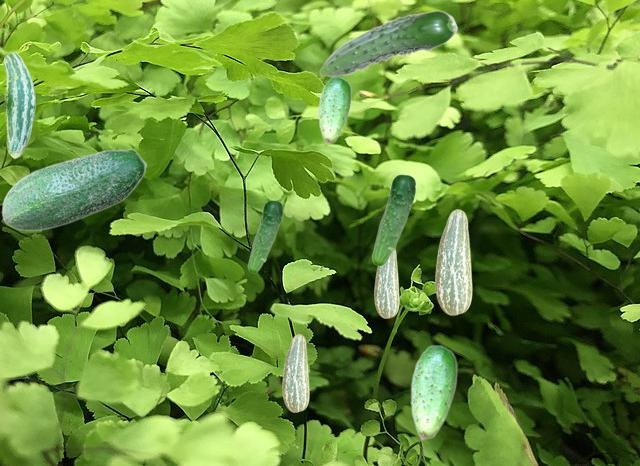cucumber: (1, 148, 146, 230), (319, 10, 457, 76), (410, 344, 456, 439), (371, 174, 415, 265), (435, 209, 471, 314), (3, 52, 34, 157), (247, 200, 282, 272), (318, 76, 350, 143), (282, 334, 308, 411), (374, 250, 398, 317)
